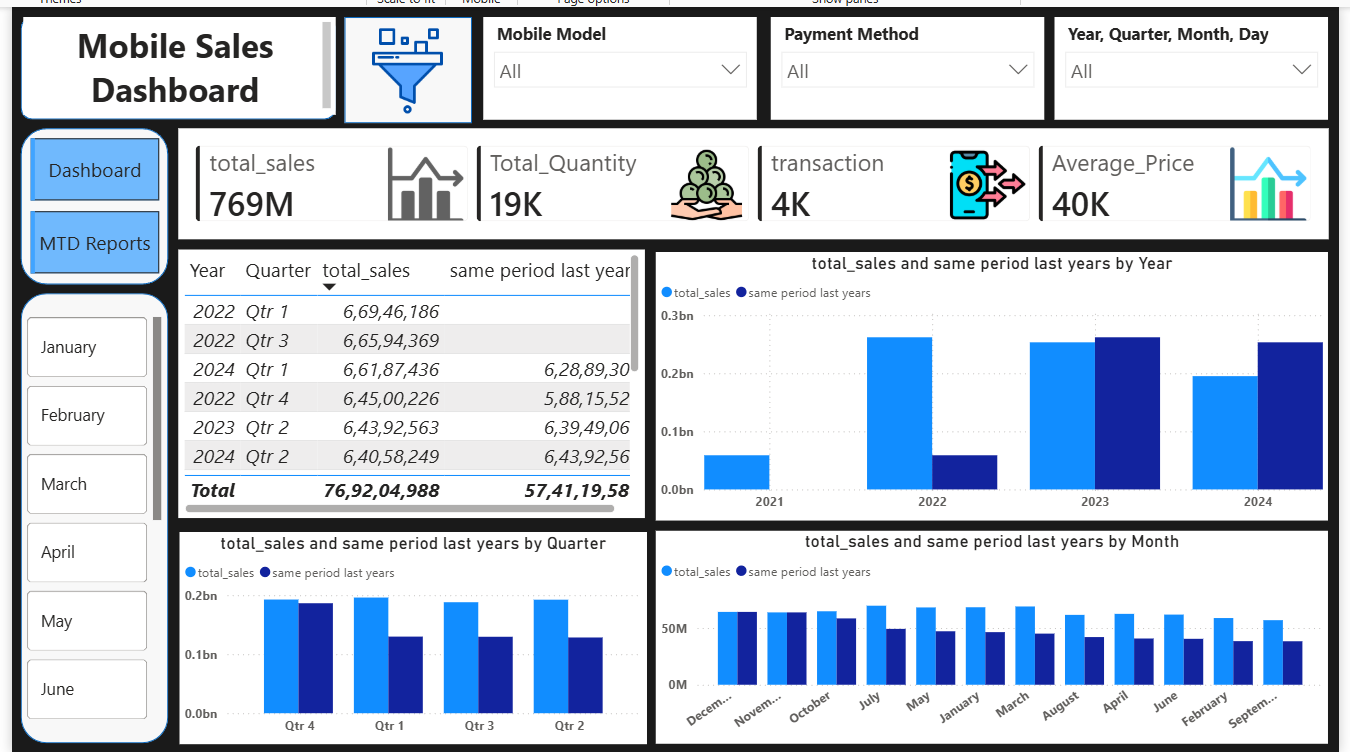

The dashboard page shown, as its layout file describes it:
{"tool":"powerbi","page":{"name":"same period last years","canvas":[1280,720],"ordinal":2},"visuals":[{"type":"shape","box":[8.4,9.7,304,98.9],"z":0},{"type":"shape","box":[8.4,117,142.4,150.8],"z":1000},{"type":"cardVisual","fields":{"Data":["mobile_sales_data.total_sales","mobile_sales_data.Total_Quantity","mobile_sales_data.transaction","mobile_sales_data.Average_Price"]},"box":[160.5,116.6,1110.1,107],"z":2000},{"type":"slicer","fields":{"Values":["mobile_sales_data.Payment Method"]},"box":[732.3,9.7,264.2,98.9],"z":3000},{"type":"slicer","fields":{"Values":["mobile_sales_data.Mobile Model"]},"box":[454.8,9.7,264.2,98.9],"z":4000},{"type":"slicer","fields":{"Values":["custom_calender.Date.Variation.Date Hierarchy.Year","custom_calender.Date.Variation.Date Hierarchy.Quarter","custom_calender.Date.Variation.Date Hierarchy.Month","custom_calender.Date.Variation.Date Hierarchy.Day"]},"box":[1006.2,9.7,264.2,98.9],"z":5000},{"type":"shape","box":[320.9,9.7,123.1,102.5],"z":6000},{"type":"image","box":[324.5,19.3,114.6,84.5],"z":7000},{"type":"textbox","box":[10.9,9.7,301.6,94.1],"z":8000},{"type":"shape","box":[8.4,276.3,142.4,434.3],"z":9000},{"type":"advancedSlicerVisual","fields":{"Values":["custom_calender.Date.Variation.Date Hierarchy.Month"]},"box":[9.7,294.4,139.9,398.1],"z":10000},{"type":"tableEx","fields":{"Values":["custom_calender.Date.Variation.Date Hierarchy.Year","custom_calender.Date.Variation.Date Hierarchy.Quarter","mobile_sales_data.total_sales","mobile_sales_data.same period last years"]},"box":[160.5,234.6,450.1,259.3],"z":11000},{"type":"clusteredColumnChart","fields":{"Category":["custom_calender.Date.Variation.Date Hierarchy.Year","custom_calender.Date.Variation.Date Hierarchy.Quarter"],"Y":["mobile_sales_data.total_sales","mobile_sales_data.same period last years"]},"box":[621.6,236,649.1,259.3],"z":12000},{"type":"clusteredColumnChart","fields":{"Y":["mobile_sales_data.total_sales","mobile_sales_data.same period last years"],"Category":["custom_calender.Date.Variation.Date Hierarchy.Month"]},"box":[621.6,505,649.1,205.8],"z":13000},{"type":"clusteredColumnChart","fields":{"Category":["custom_calender.Date.Variation.Date Hierarchy.Year","custom_calender.Date.Variation.Date Hierarchy.Quarter"],"Y":["mobile_sales_data.total_sales","mobile_sales_data.same period last years"]},"box":[161.7,506.7,451.2,205.1],"z":14000},{"type":"pageNavigator","box":[17.8,126.2,124.9,131.7],"z":15000}]}

Visuals, with their boxes on the page's 1280x720 design canvas (x1, y1, x2, y2). These are canvas units, not pixel positions in the 1350x752 screenshot, which may show the page scaled, cropped or inside an application window:
shape: (x1=8, y1=10, x2=312, y2=109)
shape: (x1=8, y1=117, x2=151, y2=268)
cardVisual - mobile_sales_data.total_sales x mobile_sales_data.Total_Quantity: (x1=160, y1=117, x2=1271, y2=224)
slicer - mobile_sales_data.Payment Method: (x1=732, y1=10, x2=996, y2=109)
slicer - mobile_sales_data.Mobile Model: (x1=455, y1=10, x2=719, y2=109)
slicer - custom_calender.Date.Variation.Date Hierarchy.Year x custom_calender.Date.Variation.Date Hierarchy.Quarter: (x1=1006, y1=10, x2=1270, y2=109)
shape: (x1=321, y1=10, x2=444, y2=112)
image: (x1=324, y1=19, x2=439, y2=104)
textbox: (x1=11, y1=10, x2=312, y2=104)
shape: (x1=8, y1=276, x2=151, y2=711)
advancedSlicerVisual - custom_calender.Date.Variation.Date Hierarchy.Month: (x1=10, y1=294, x2=150, y2=692)
tableEx - custom_calender.Date.Variation.Date Hierarchy.Year x custom_calender.Date.Variation.Date Hierarchy.Quarter: (x1=160, y1=235, x2=611, y2=494)
clusteredColumnChart - custom_calender.Date.Variation.Date Hierarchy.Year x custom_calender.Date.Variation.Date Hierarchy.Quarter: (x1=622, y1=236, x2=1271, y2=495)
clusteredColumnChart - mobile_sales_data.total_sales x mobile_sales_data.same period last years: (x1=622, y1=505, x2=1271, y2=711)
clusteredColumnChart - custom_calender.Date.Variation.Date Hierarchy.Year x custom_calender.Date.Variation.Date Hierarchy.Quarter: (x1=162, y1=507, x2=613, y2=712)
pageNavigator: (x1=18, y1=126, x2=143, y2=258)
